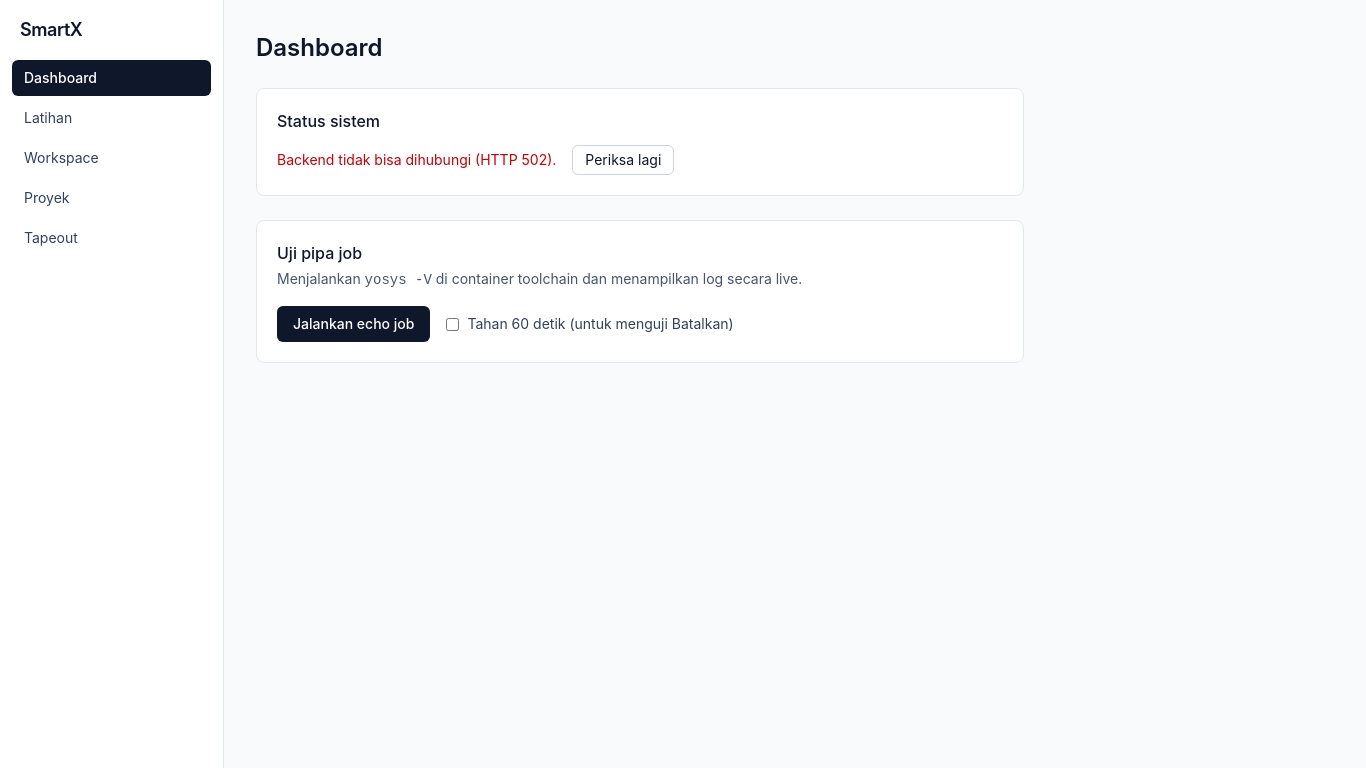
Test: Dashboard health › treats a proxy 502 as unreachable and can check again
This screenshot has width=1366, height=768.
Expected: the text "Backend tidak bisa dihubungi (HTTP 502)." is shown, [277,150,556,170]
Step 1. Click the button "Periksa lagi" → (623,160), box [572,145,674,175]
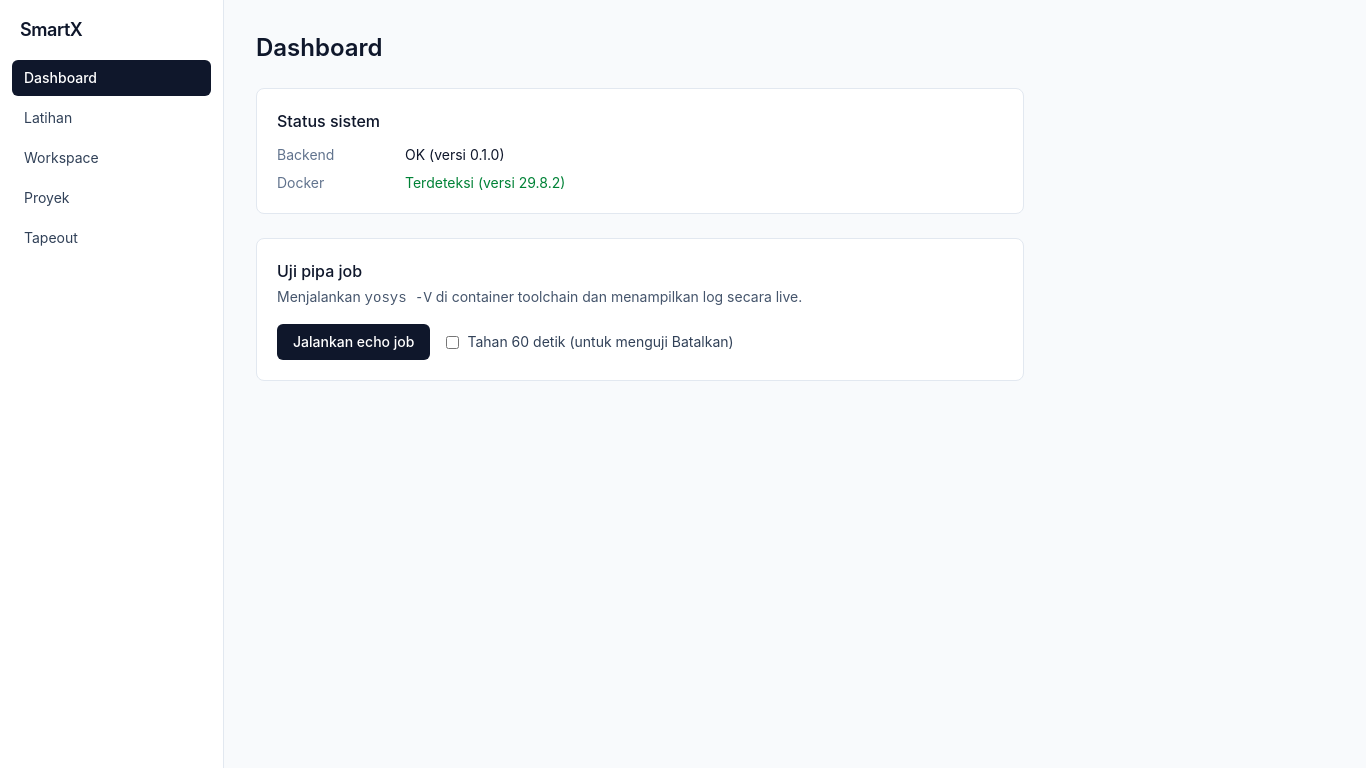
Expected: the text "OK (versi 0.1.0)" is shown, [405,146,504,163]
